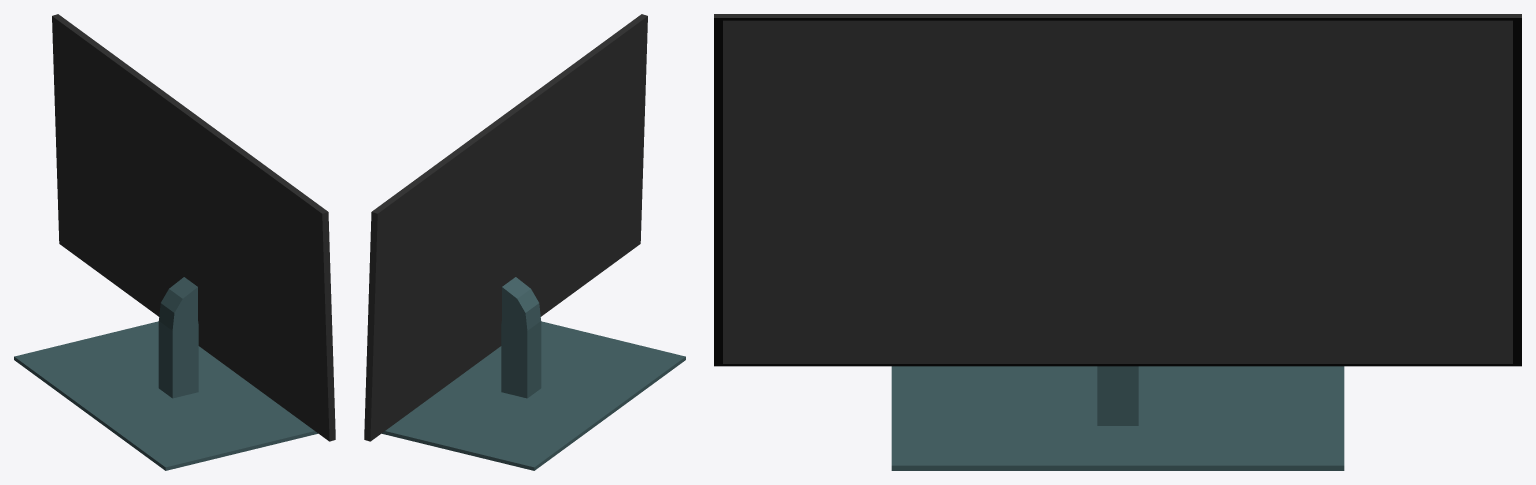
The picture shows the model from 3 angles, left to right: view 1: azimuth 30°, elevation 25°; view 2: azimuth 150°, elevation 25°; view 3: azimuth 270°, elevation 25°; orthographic projection. The views are drawn at different scales.
Visible parts, largest first — view 1: Cube; view 2: Cube; view 3: Cube.
Part boxes in pixels (x1,y1,x2,y2): Cube: [14, 14, 335, 470]; Cube: [364, 14, 685, 470]; Cube: [714, 14, 1521, 470].
Size of the model in its own units: 0.1925 by 0.5762 by 0.3262.
